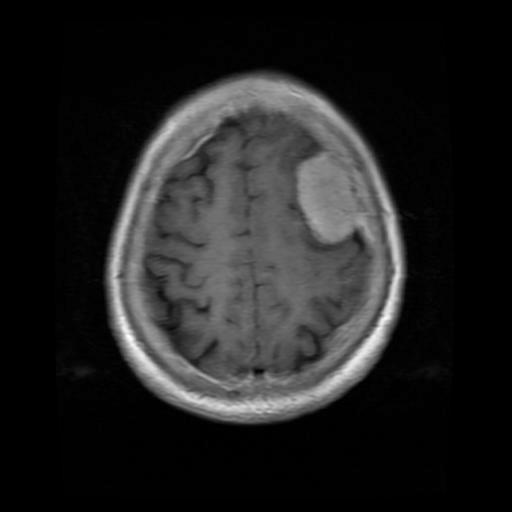Tumour-Meningioma: (282, 147, 371, 249)
